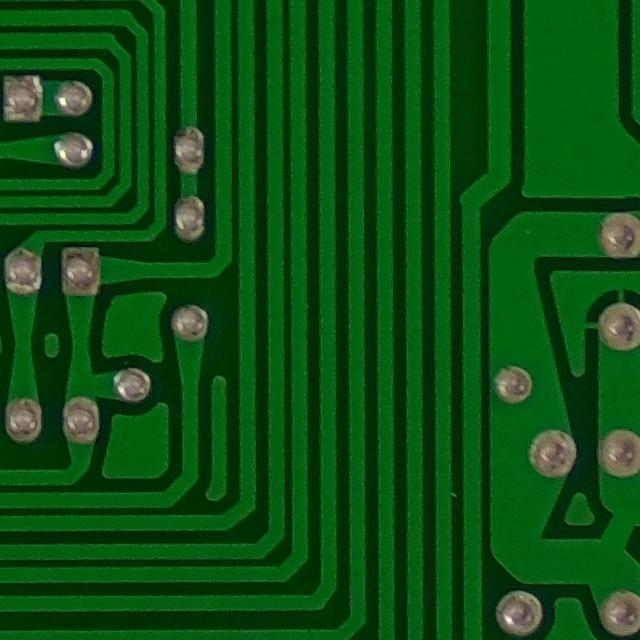short: (579, 495, 640, 564)
